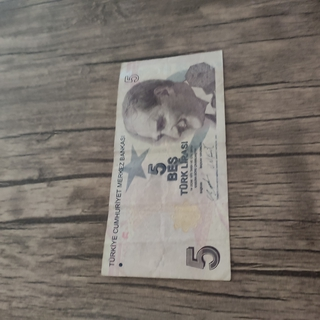5TLFront: (100, 48, 232, 282)
